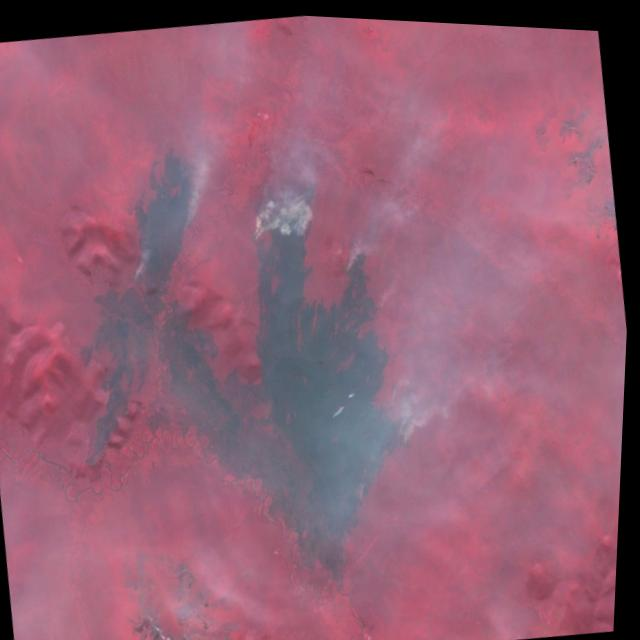fire: (313, 406, 445, 576), (118, 186, 225, 301), (330, 238, 404, 331), (239, 205, 281, 259)
